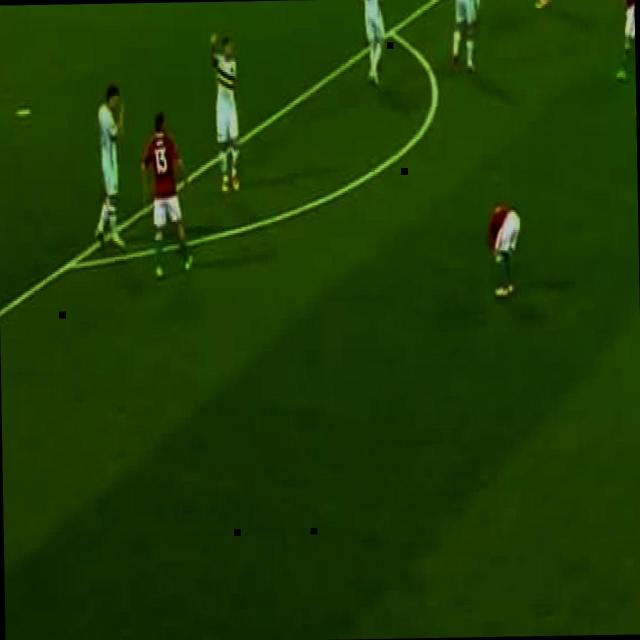player-white: (140, 110, 193, 279), (92, 83, 126, 251), (210, 29, 240, 193), (485, 203, 523, 297), (447, 0, 480, 72), (358, 0, 386, 84), (615, 0, 636, 86), (620, 0, 634, 18), (530, 0, 554, 8)
